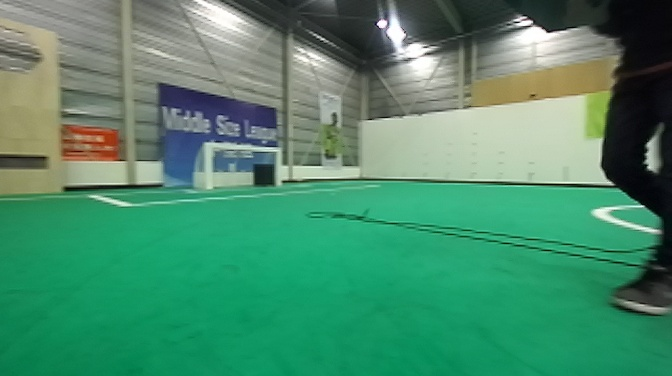goalpost: (201, 141, 216, 188), (272, 148, 285, 187)
human: (520, 5, 672, 316)
